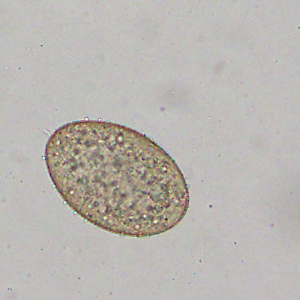Fasciola_hepatica_egg: (42, 118, 189, 239)
